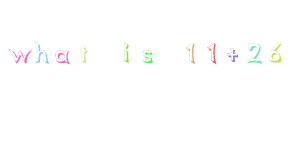+: (226, 47, 239, 63)
1: (206, 41, 218, 64), (185, 42, 196, 64)
2: (246, 42, 263, 64)
6: (268, 42, 283, 63)
a: (54, 49, 71, 64)
h: (34, 40, 50, 64)
i: (122, 40, 131, 63)
s: (141, 49, 153, 63)
t: (79, 45, 88, 64)
w: (8, 47, 31, 63)
